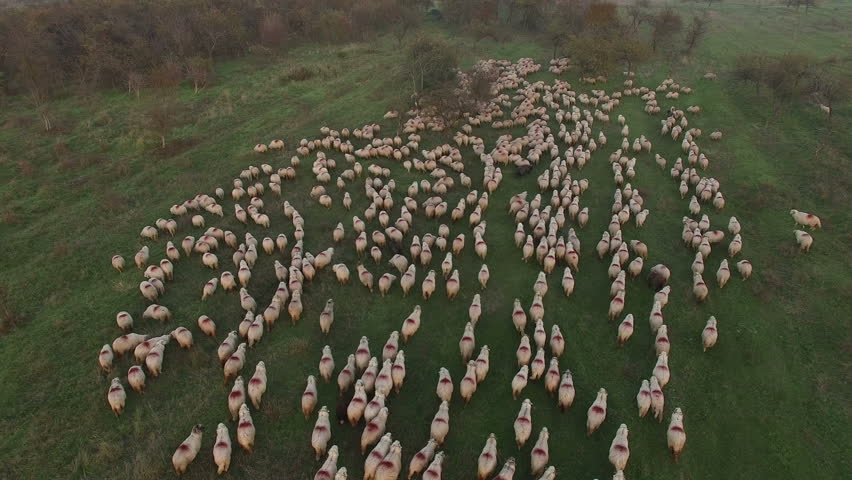sheep: (170, 421, 206, 480), (307, 404, 335, 457), (585, 385, 613, 434), (665, 404, 691, 456), (513, 395, 537, 451), (212, 420, 235, 475), (375, 439, 405, 480), (474, 433, 500, 480), (246, 358, 270, 407), (607, 421, 632, 467), (223, 340, 251, 381), (430, 396, 453, 445), (556, 368, 581, 413), (234, 401, 256, 451), (474, 343, 496, 387), (401, 303, 424, 341), (791, 208, 825, 233), (318, 295, 338, 337), (106, 374, 127, 413), (318, 342, 337, 384), (435, 365, 454, 406), (113, 332, 149, 353), (392, 348, 410, 390), (650, 350, 671, 386), (702, 315, 720, 353), (646, 299, 665, 335), (511, 296, 528, 336), (511, 363, 531, 397), (143, 300, 169, 325), (422, 268, 440, 304), (618, 312, 635, 349), (171, 323, 193, 351), (401, 262, 418, 298), (549, 324, 566, 360), (246, 314, 264, 348), (196, 312, 218, 339), (609, 269, 629, 298), (793, 228, 814, 255), (289, 290, 306, 323), (446, 267, 462, 299), (533, 270, 550, 300), (356, 262, 374, 290), (314, 247, 335, 271), (134, 245, 151, 272), (200, 276, 219, 300), (716, 256, 730, 288), (694, 269, 707, 303), (354, 231, 371, 257), (331, 260, 352, 281), (562, 266, 576, 297), (238, 259, 252, 290), (272, 256, 288, 283), (450, 198, 466, 225), (232, 201, 249, 226), (476, 262, 491, 290), (473, 230, 487, 258), (521, 235, 534, 265), (164, 240, 179, 265), (635, 208, 652, 230), (451, 232, 466, 256), (467, 204, 483, 226), (565, 240, 577, 269), (332, 223, 347, 246), (201, 251, 219, 270), (576, 208, 592, 229), (607, 213, 621, 236), (529, 193, 545, 213), (249, 212, 271, 226), (687, 194, 703, 213), (400, 203, 413, 225), (292, 209, 305, 228), (342, 191, 354, 211)
